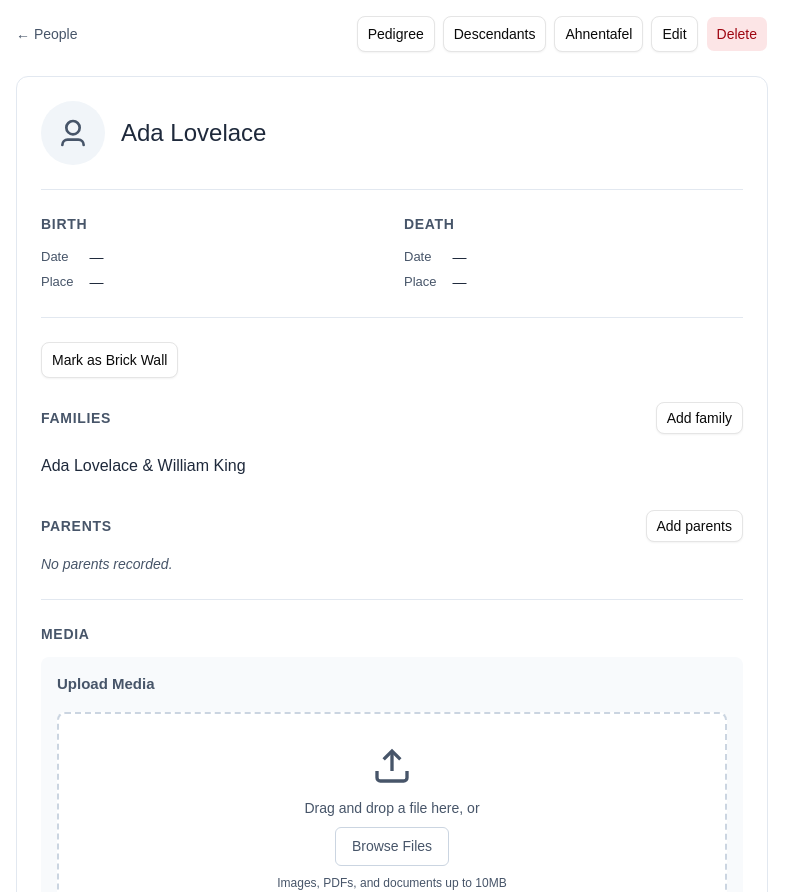
Person detail failed actions (#899) › keeps the person, families included, when a delete is refused
What coordinates should you click on to do the following:
click the button "Delete"
I would click on:
 (737, 34)
Its box is left=706, top=16, right=768, bottom=52.
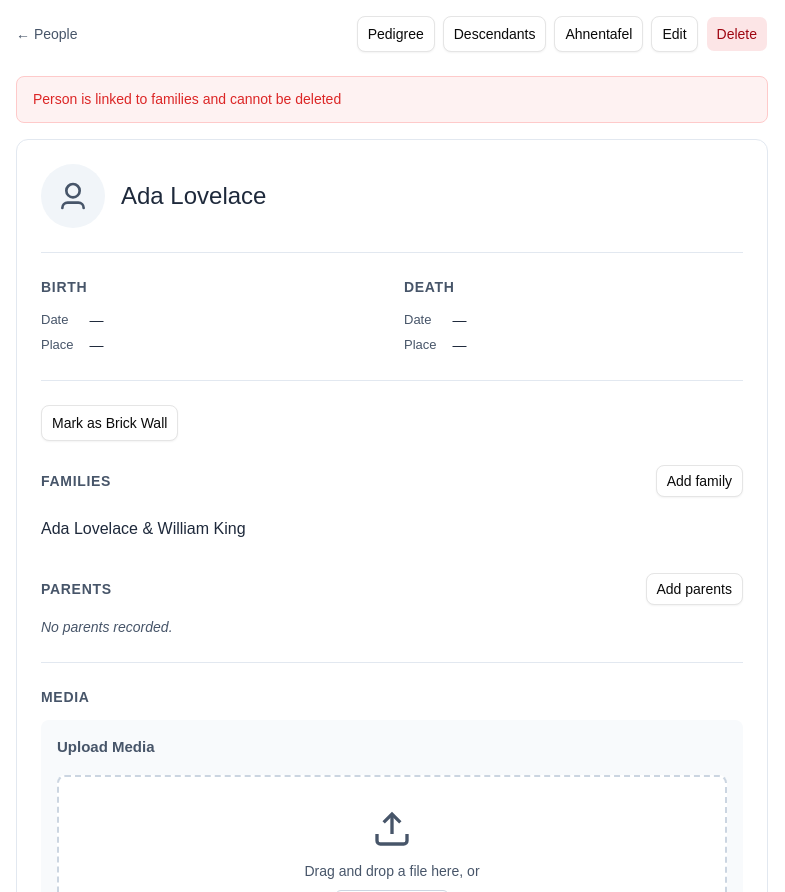
Expected: the heading "Ada Lovelace" is shown, left=121, top=178, right=266, bottom=214
Expected: the message shows "linked to families", left=33, top=91, right=341, bottom=107
